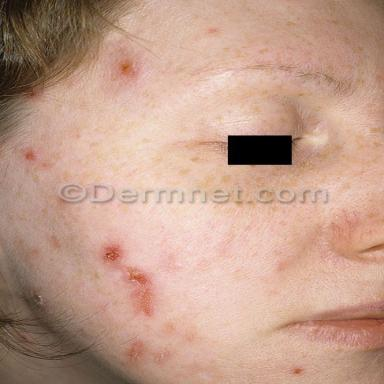acne: (128, 268, 154, 316), (126, 341, 145, 361), (121, 59, 136, 78), (104, 246, 120, 261), (24, 149, 38, 161), (292, 368, 304, 374)
